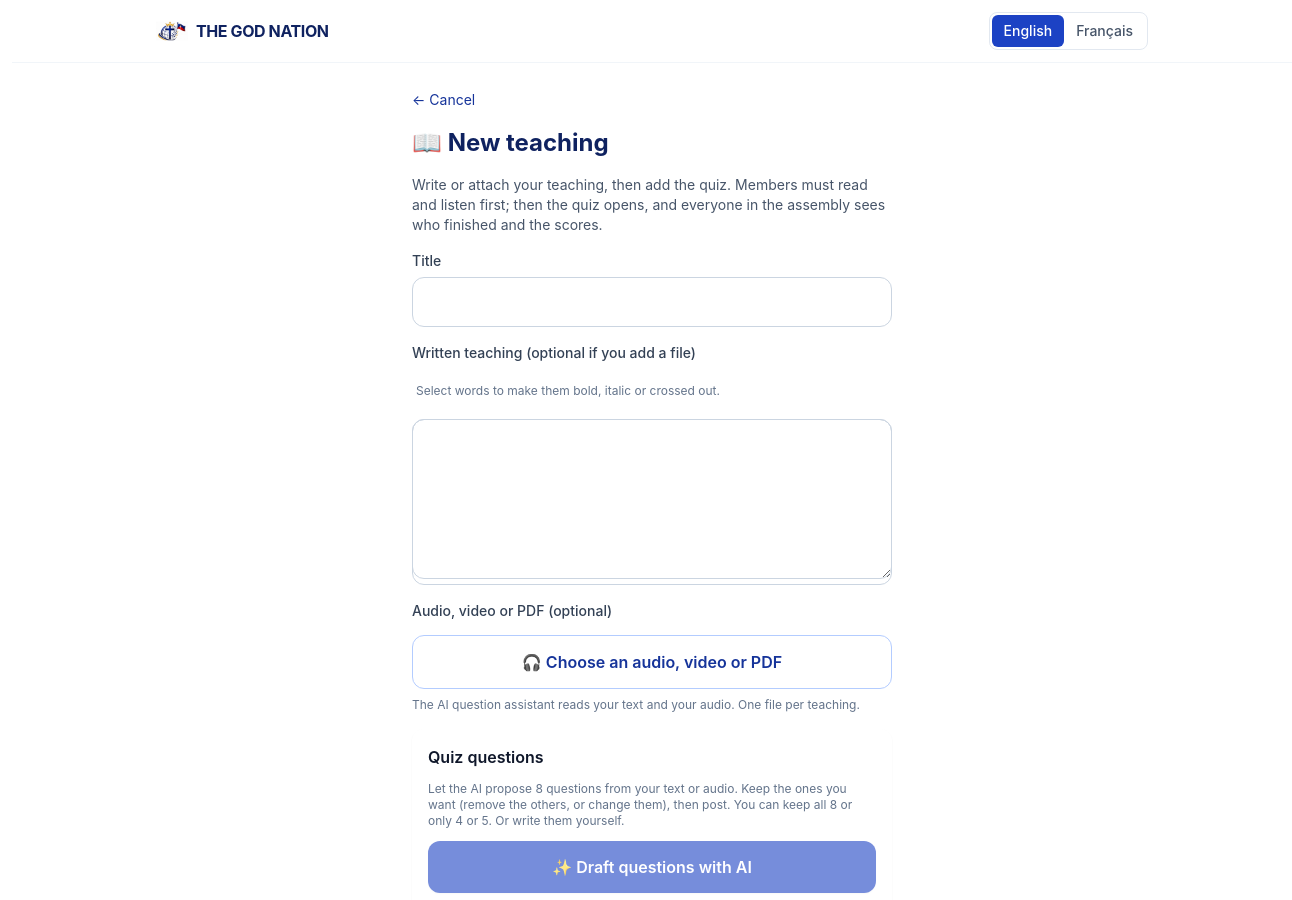
Posting a teaching › drafts questions with AI, lets the admin check them, then posts
In the field labelled "Title": (652, 302) [412, 277, 892, 327], type "Walking in love"
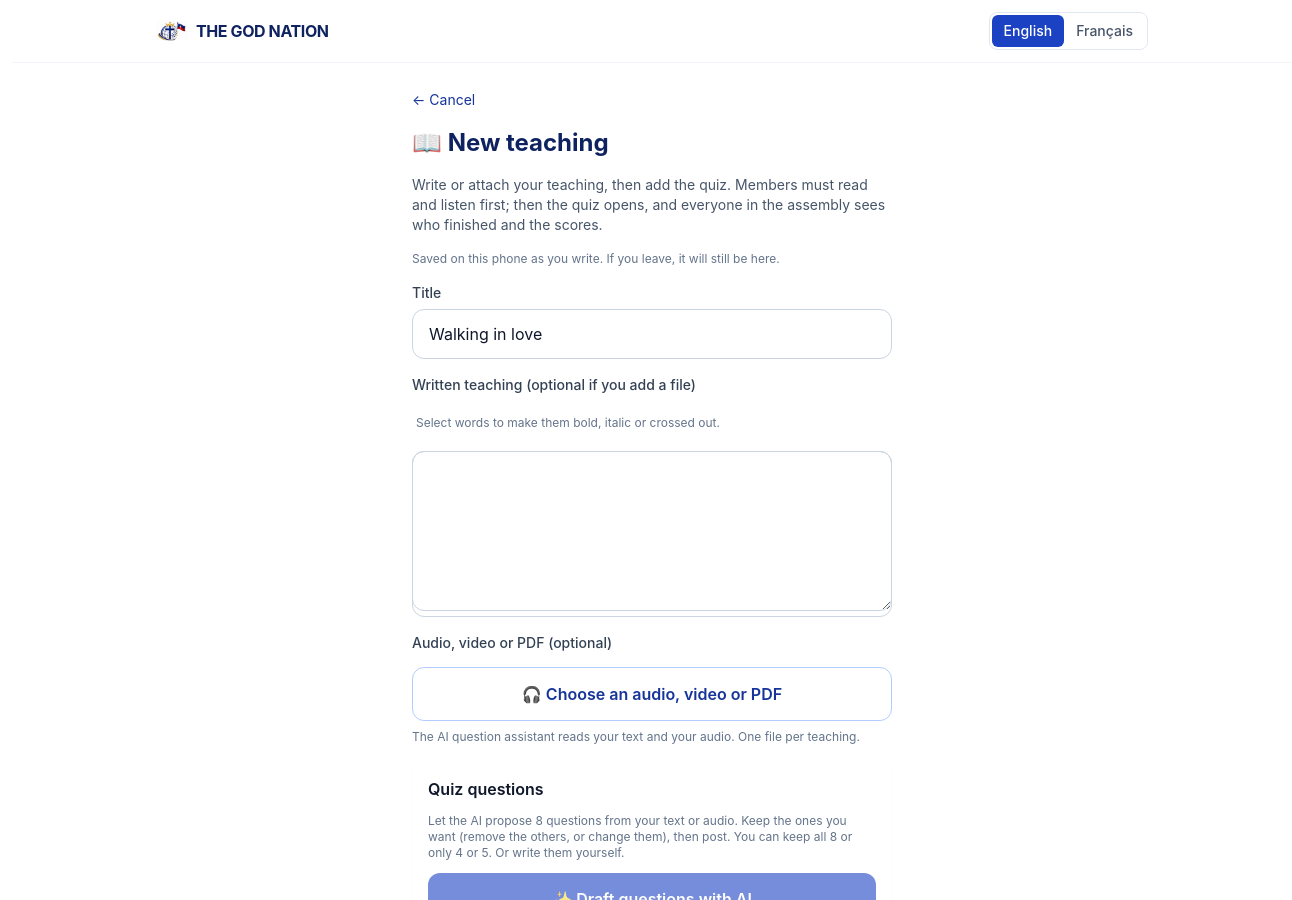
In the text box labelled "Written teaching (optional if you add a file)": (652, 531) [412, 451, 892, 611], type "Love one another."
(page scrolled)
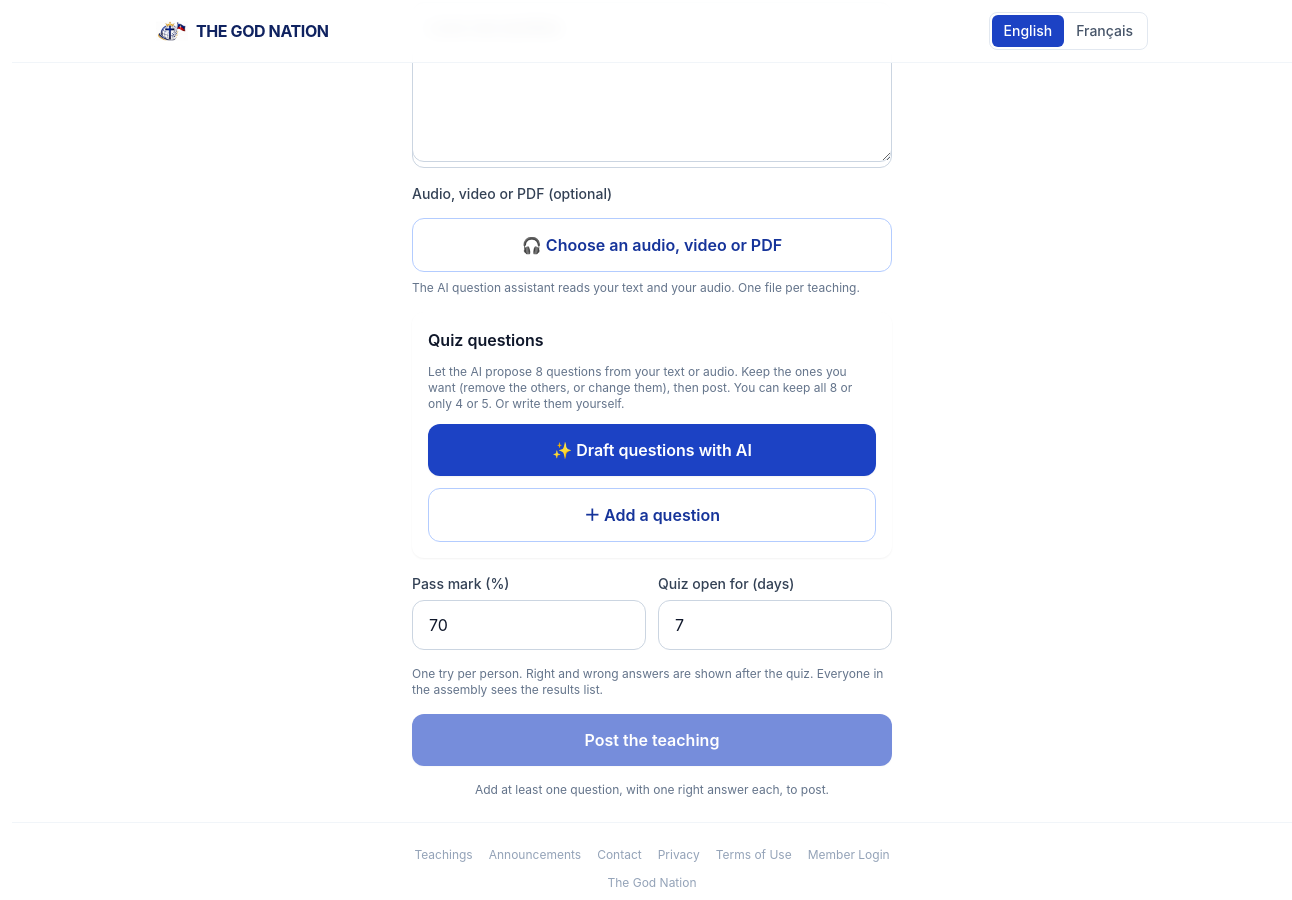
Click the button "✨ Draft questions with AI": (652, 450) [428, 424, 876, 476]
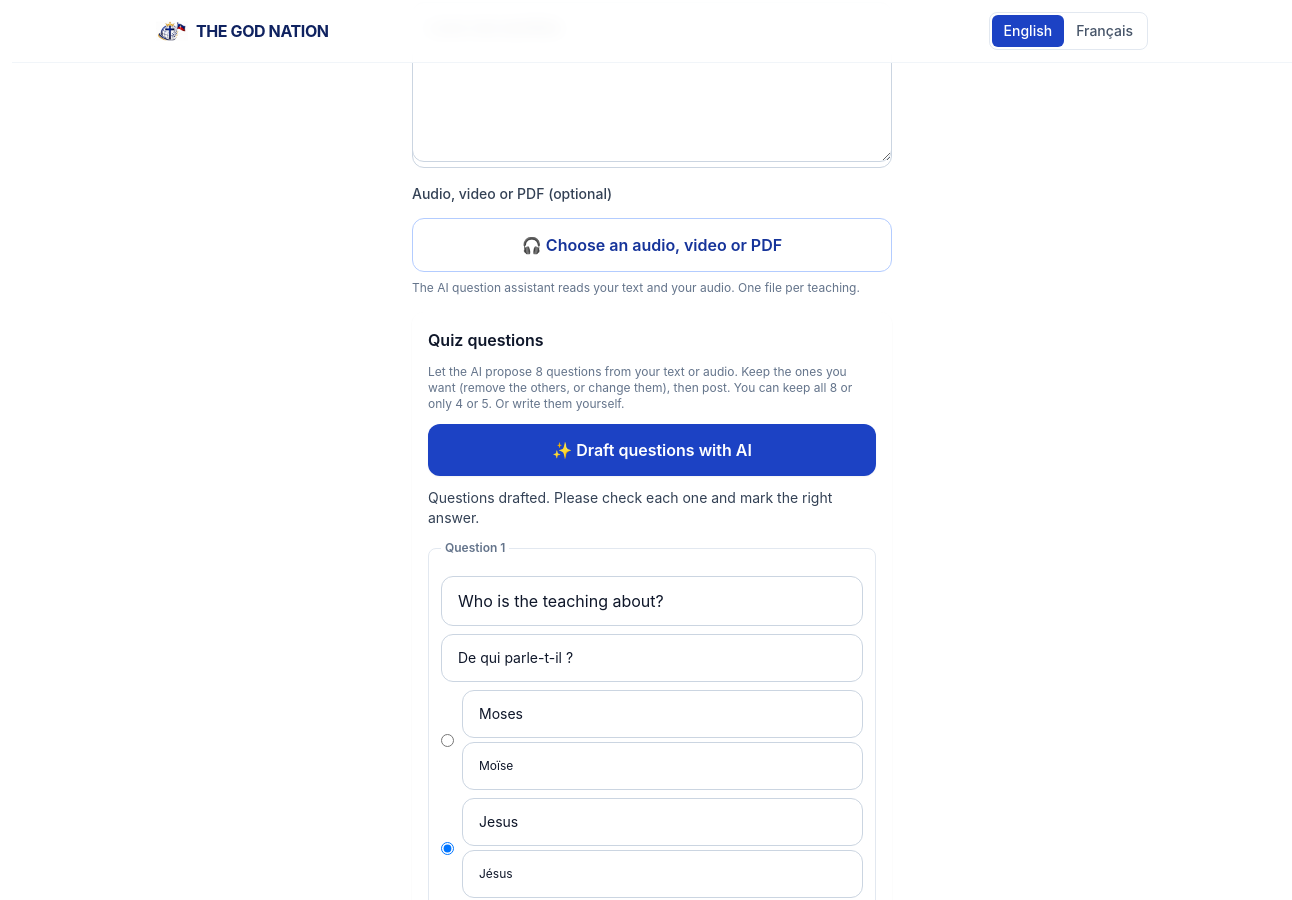
Check: the field showing "Who is the teaching about?" is shown, box [441, 576, 863, 626]
Check: the number of radio buttons is 3
Check: the 2nd radio button named "This is the right answer" is checked, box [441, 842, 454, 854]
Click the 1st radio button named "This is the right answer": (448, 740) [441, 734, 454, 746]
(page scrolled)
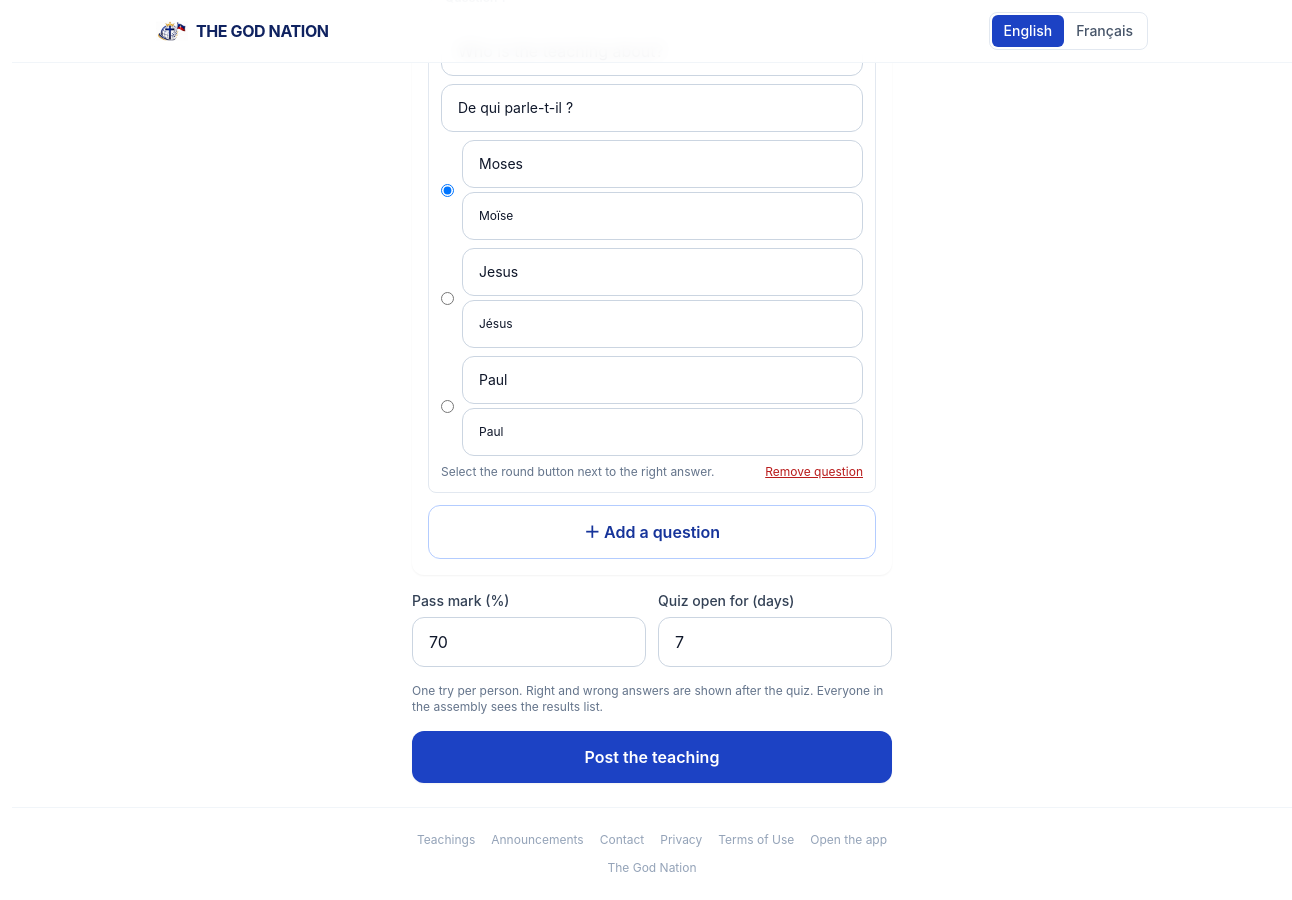
Check: the 1st radio button named "This is the right answer" is checked, box [441, 184, 454, 196]
Check: the button "Post the teaching" is enabled
Click the button "Post the teaching": (652, 757) [412, 731, 892, 783]
(page scrolled)
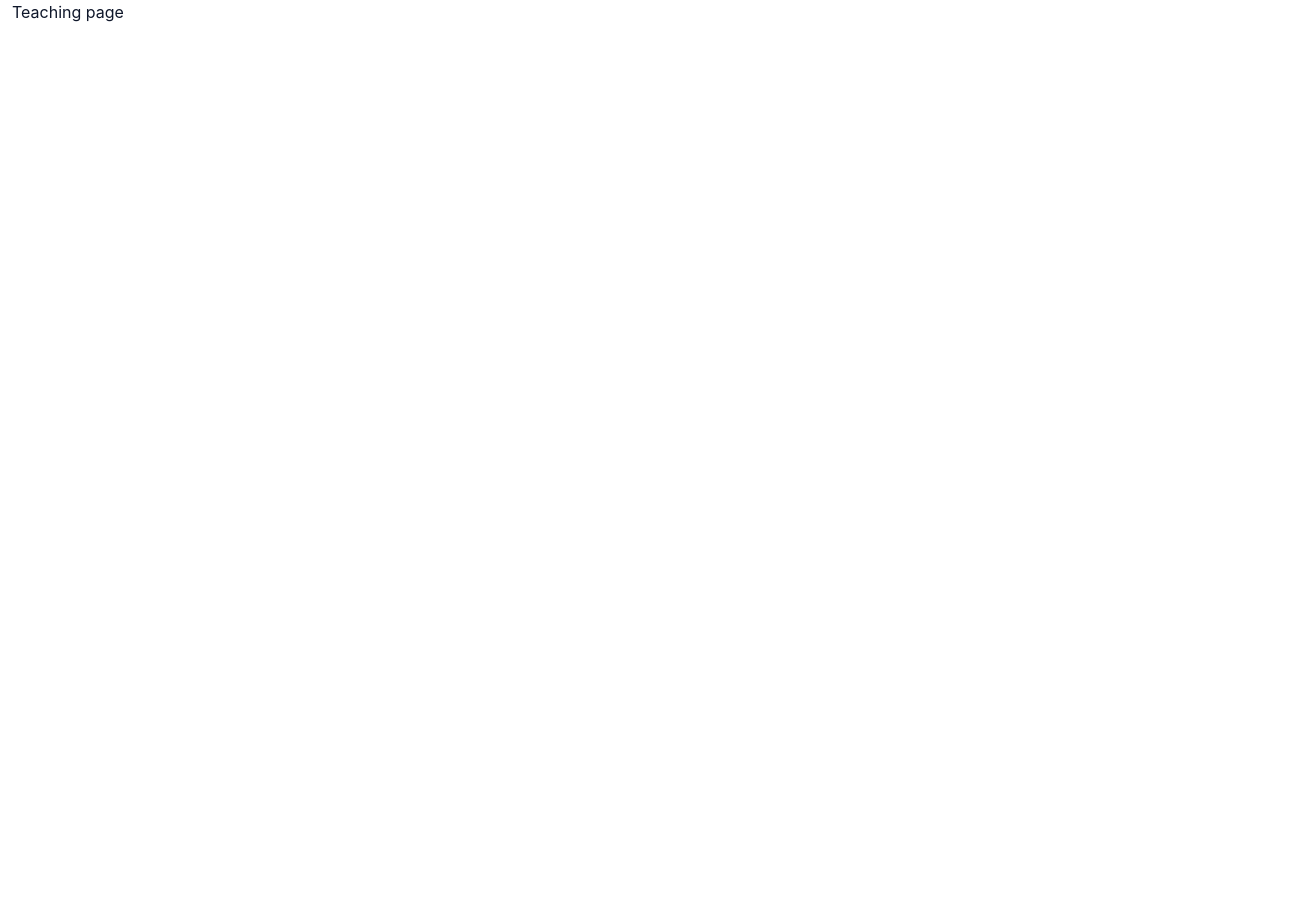
Check: the text "Teaching page" is shown, box [12, 2, 124, 22]
